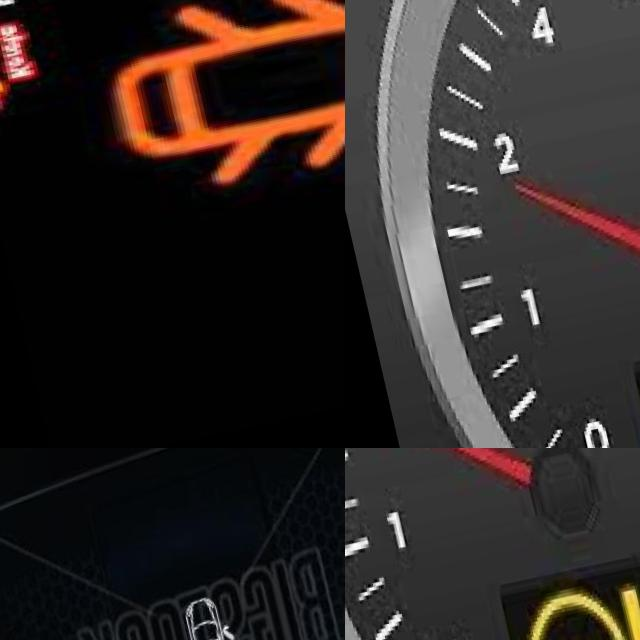Electronic Power Steering: (493, 592, 640, 640)
